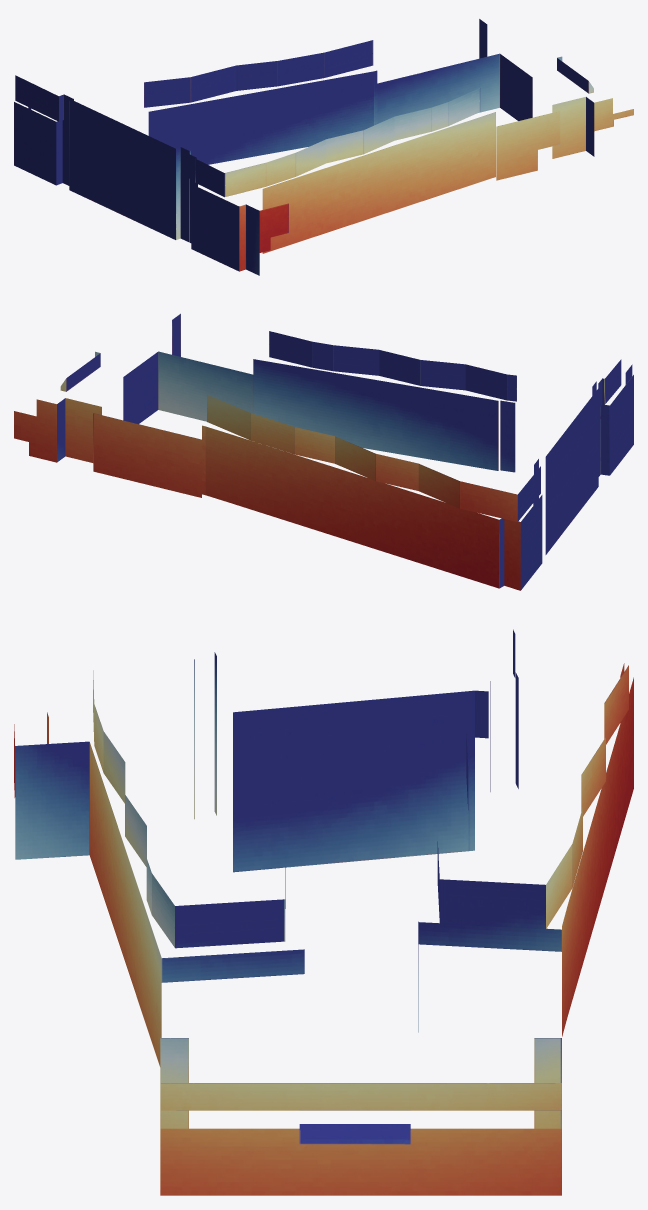
File: target_mesh_option_2_jpg.glb
3 renders of one model, top to bottom at view 1: azimuth 30°, elevation 25°; view 2: azimuth 150°, elevation 25°; view 3: azimuth 270°, elevation 25°, orthographic. The views are drawn at different scales.
Parts seen in each view (by area): view 1: target_mesh_Option_2; view 2: target_mesh_Option_2; view 3: target_mesh_Option_2.
Part boxes in pixels (<box>): target_mesh_Option_2: <box>14,19,633,275</box>; target_mesh_Option_2: <box>14,313,633,590</box>; target_mesh_Option_2: <box>14,629,633,1195</box>.
Bounding box in the file's own units: 114 × 21.22 × 71.8.
1 material, 1 textured.
